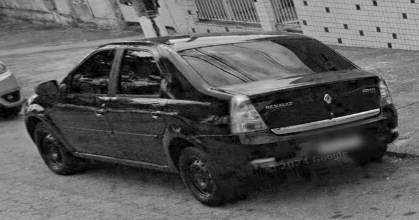car: (20, 32, 399, 206)
